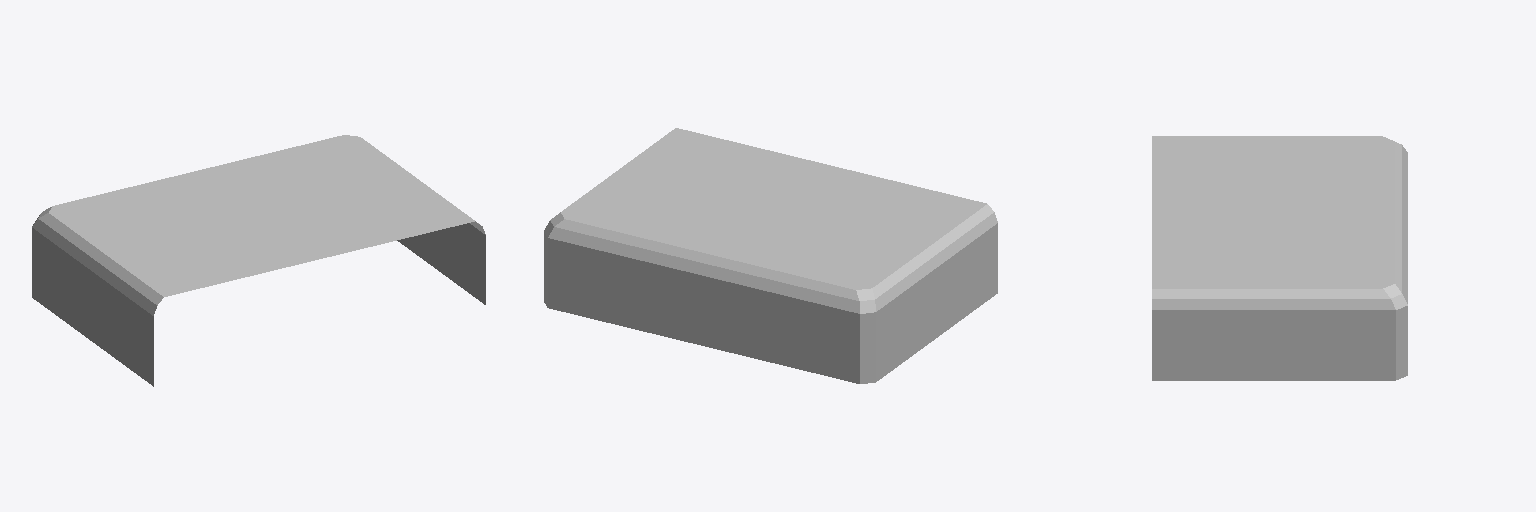
File: stair_01.obj
The picture shows the model from 3 angles: view 1: azimuth 30°, elevation 25°; view 2: azimuth 150°, elevation 25°; view 3: azimuth 270°, elevation 25°; orthographic projection.
Parts seen in each view (by area): view 1: Cube.004_Cube.007; view 2: Cube.004_Cube.007; view 3: Cube.004_Cube.007.
Boxes of the visible parts, <box> form: Cube.004_Cube.007: <box>32,135,485,386</box>; Cube.004_Cube.007: <box>544,128,997,383</box>; Cube.004_Cube.007: <box>1152,136,1407,380</box>.
Size of the model in its own units: 3 by 0.75 by 2.